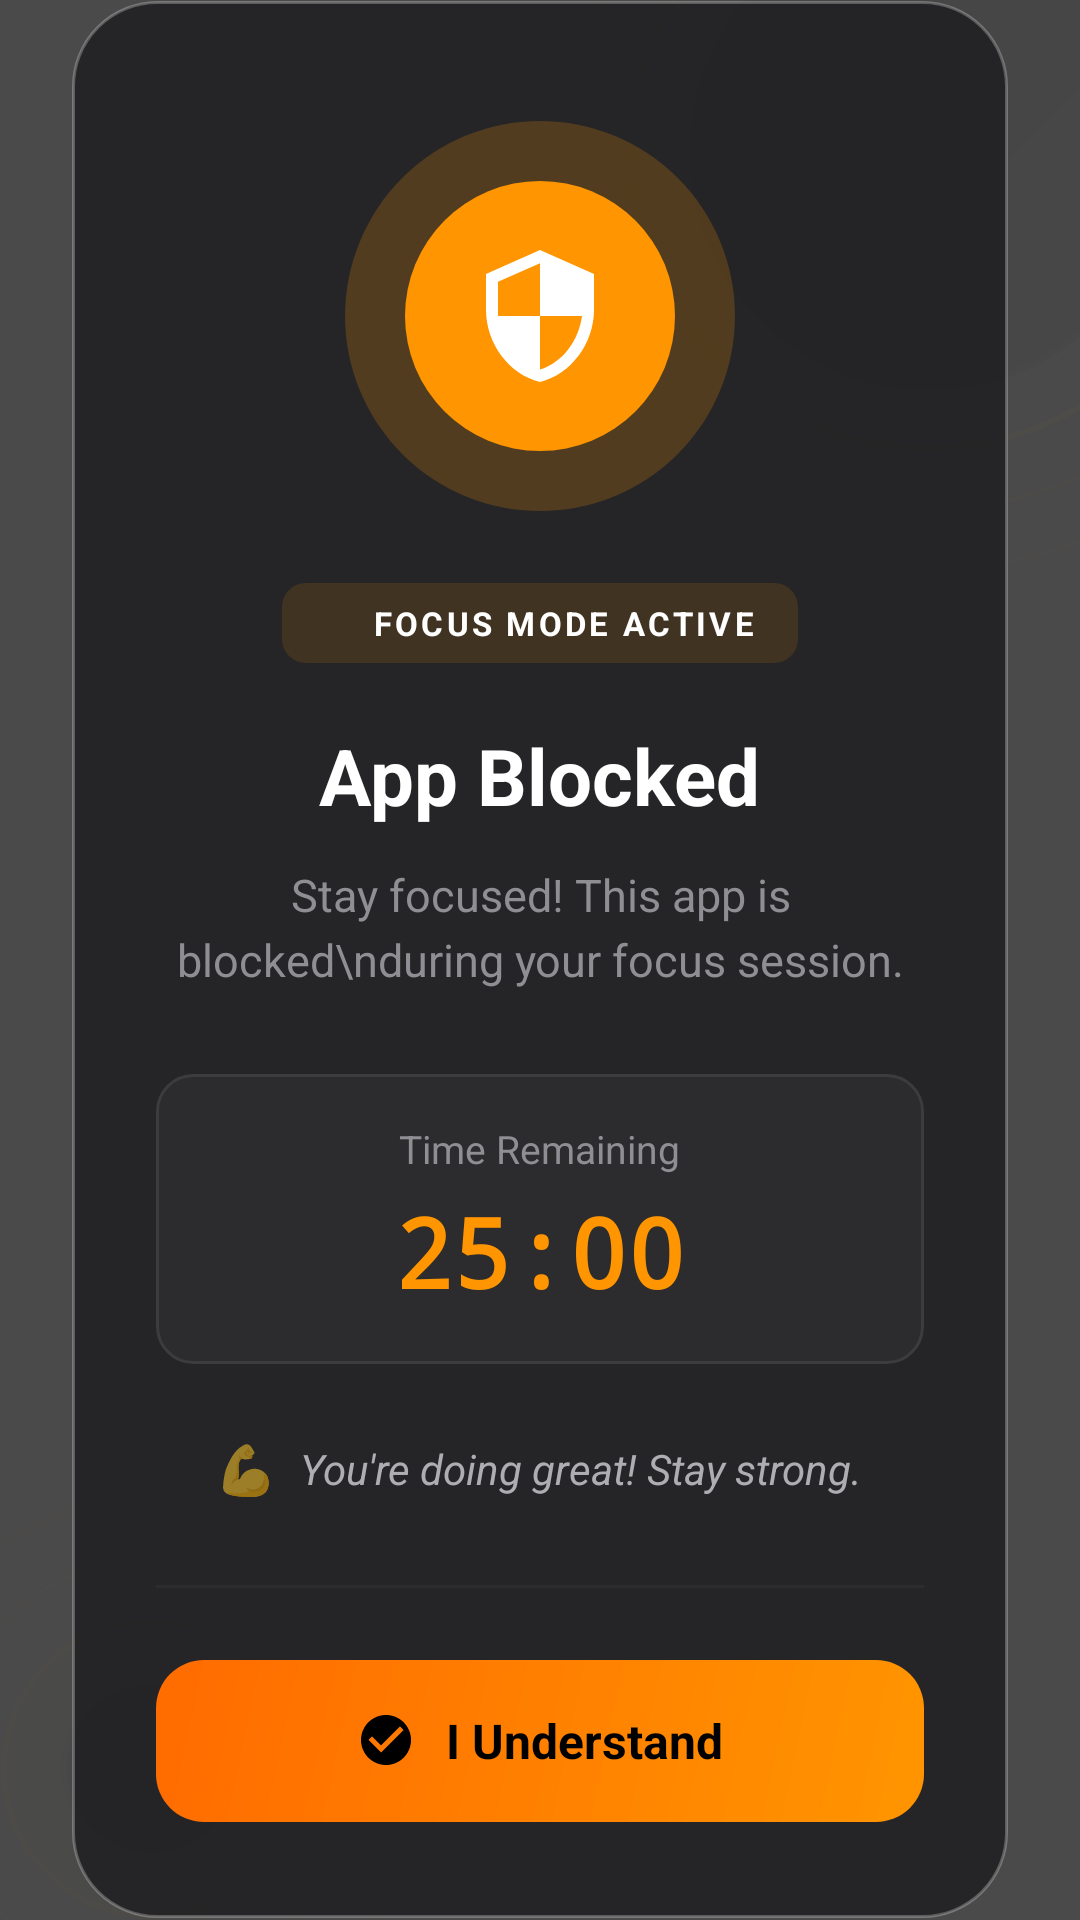

Icons on this 1080 × 1920 Android screen, each with the point to tap as [x,y]:
Check: [386,1740]
Focus Shield: [540,316]
